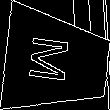M_E: (32, 36, 81, 88)
